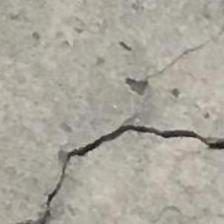Crack: (42, 107, 222, 224)
